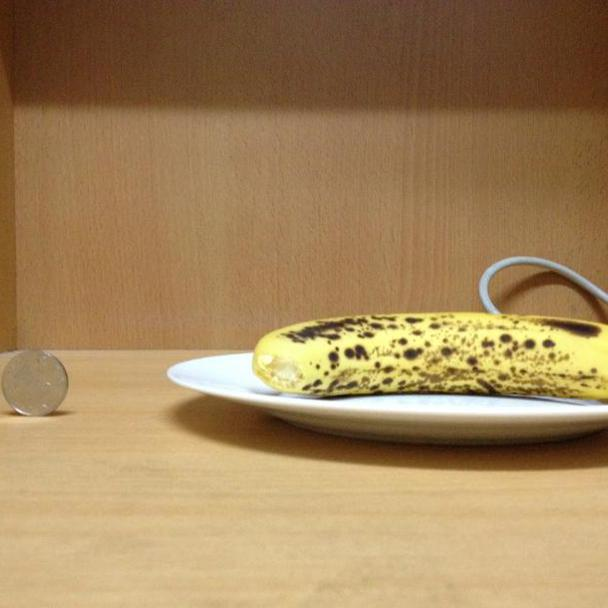banana: (255, 310, 608, 407)
